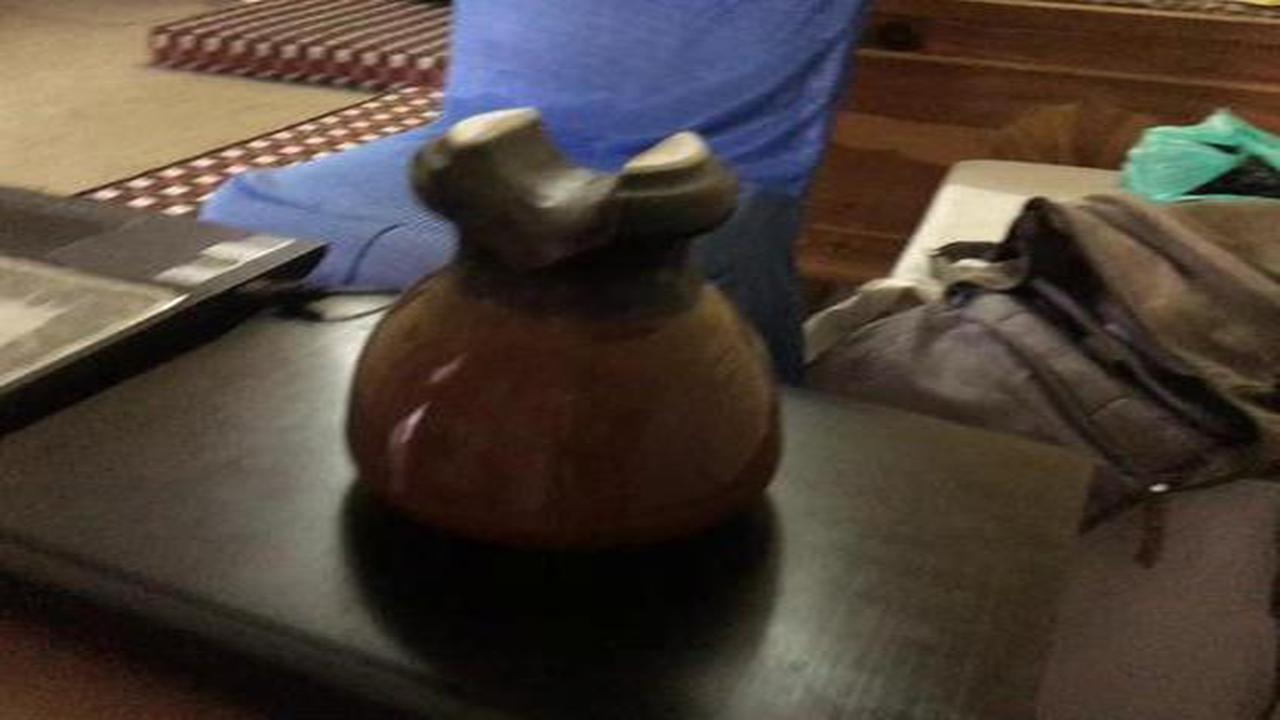insulator_pin: (321, 88, 813, 572)
